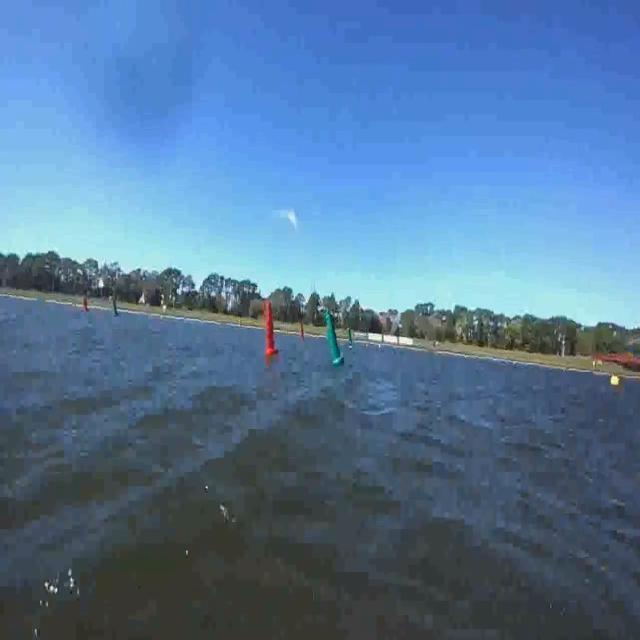green-column-buoy: (324, 312, 346, 368), (110, 294, 120, 320), (348, 328, 354, 347)
red-column-buoy: (265, 301, 280, 356), (82, 294, 90, 312), (298, 322, 305, 340)
yellow-buoy: (609, 375, 619, 389)
